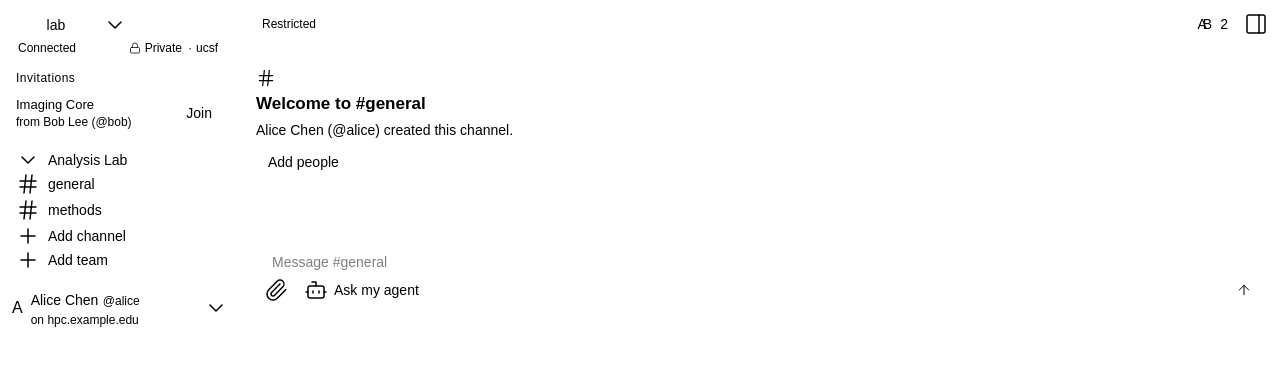
a send failure belongs to its channel and its draft (QA M5, R-4) › goes when the draft is cleared
Type "for #general" into the text box labelled "Message #general" at point(762, 262), box [272,246,1252,278]
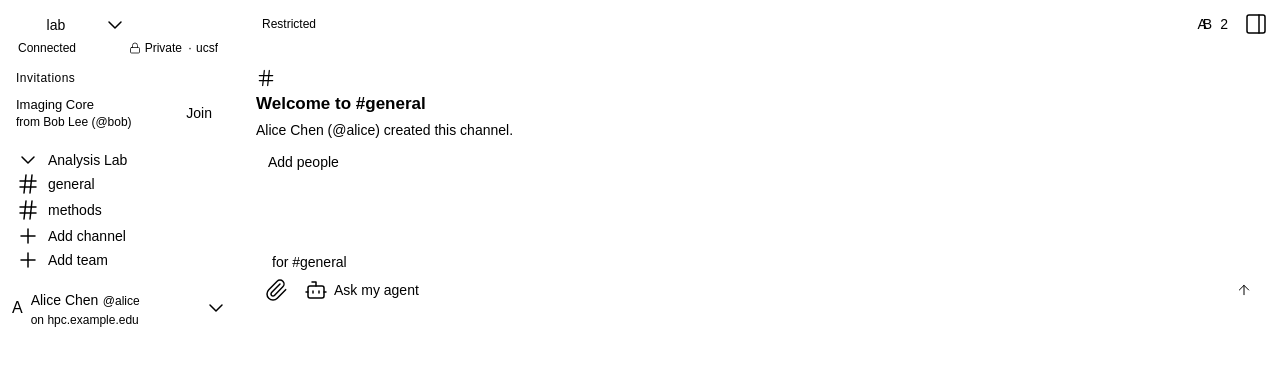
Click the button named "Send message" at point(1244, 290), box [1236,282,1252,298]
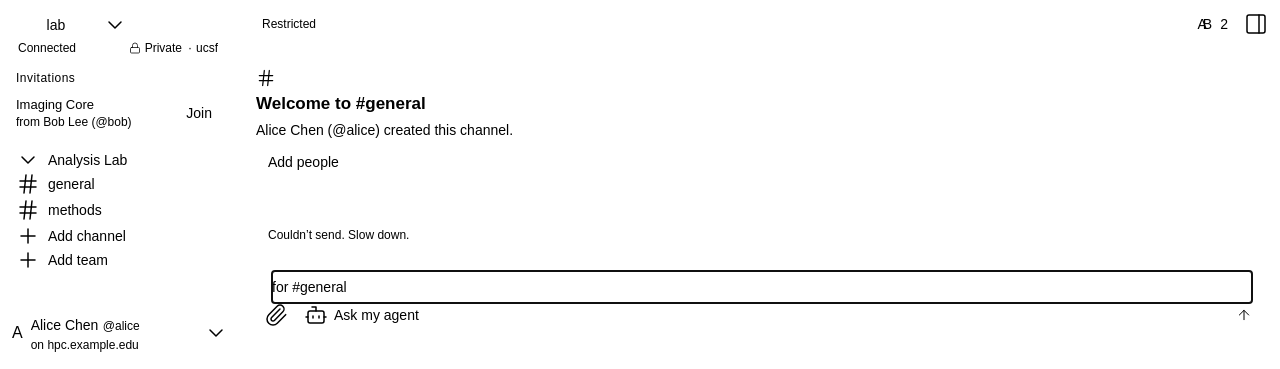
Clear the text box named "Message #general" at point(762, 287), box [272,271,1252,303]
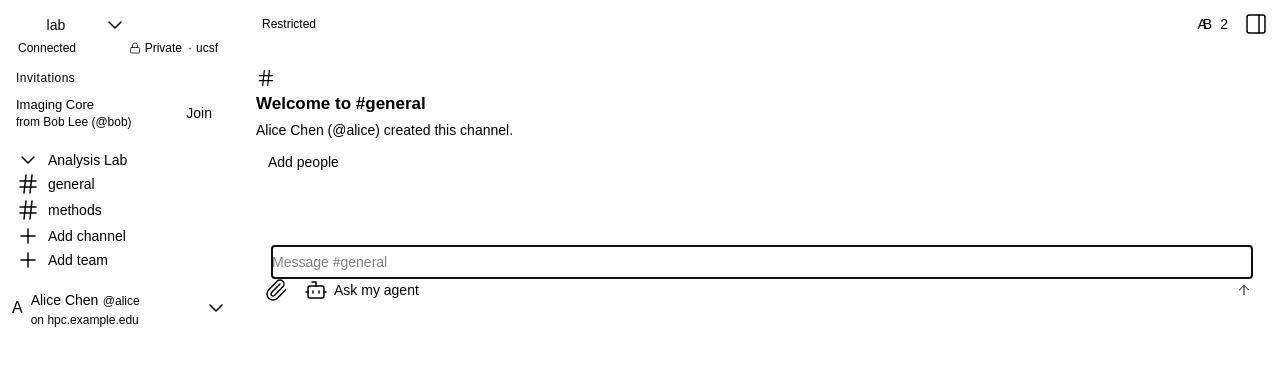
Now the text "Couldn’t send." is gone
